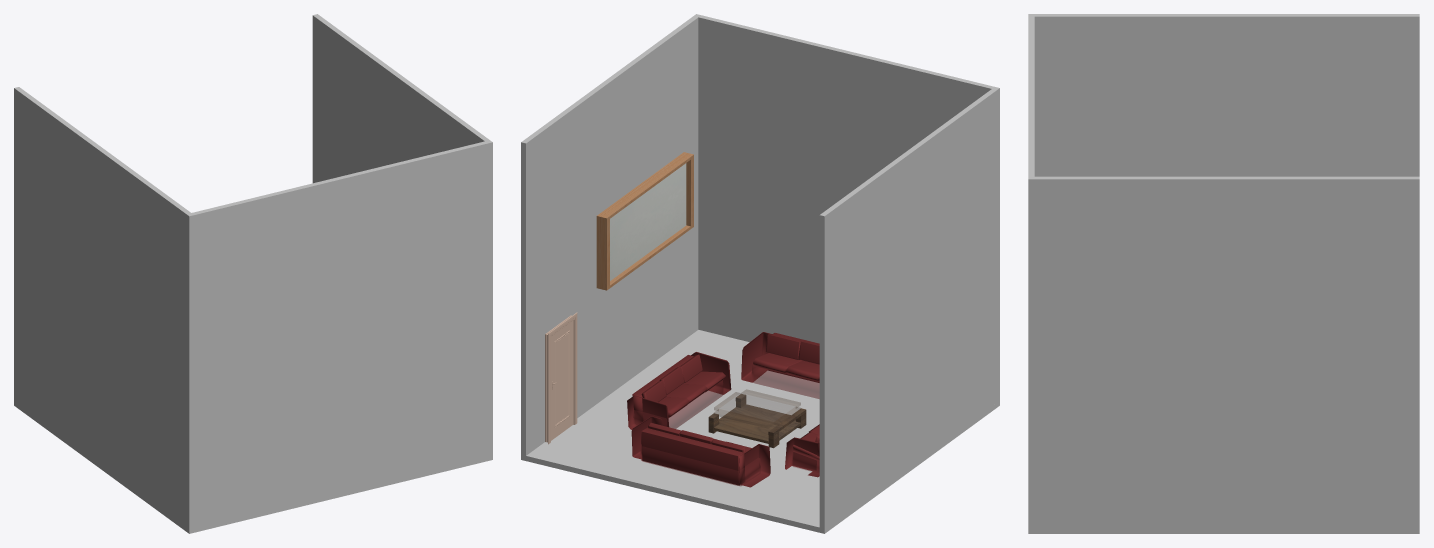
File: UserRoom.fbx
The picture shows the model from 3 angles, left to right: view 1: azimuth 30°, elevation 25°; view 2: azimuth 150°, elevation 25°; view 3: azimuth 270°, elevation 25°; orthographic projection. The views are drawn at different scales.
Visible parts, largest first — view 1: Plane.002, Plane.003, Plane.001, Plane; view 2: Plane.003, Plane.002, Plane.001, Plane, Cube, Cube.014, Cube.010, Cube.002, obj_27, Cube.006, Cube.005, Cube.011; view 3: Plane.001, Plane.003, Plane.002, Plane.
Part boxes in pixels (bbox=[...]): Plane.002: bbox=[186, 141, 492, 533]; Plane.003: bbox=[14, 87, 190, 525]; Plane.001: bbox=[312, 14, 492, 388]; Plane: bbox=[14, 400, 186, 531]; Plane.003: bbox=[819, 88, 999, 533]; Plane.002: bbox=[698, 15, 999, 407]; Plane.001: bbox=[521, 14, 700, 460]; Plane: bbox=[526, 330, 996, 533]; Cube: bbox=[596, 152, 693, 290]; Cube.014: bbox=[631, 416, 770, 487]; Cube.010: bbox=[627, 352, 731, 429]; Cube.002: bbox=[741, 332, 819, 398]; obj_27: bbox=[545, 312, 577, 444]; Cube.006: bbox=[708, 393, 806, 448]; Cube.005: bbox=[714, 389, 800, 428]; Cube.011: bbox=[785, 424, 819, 477]; Plane.001: bbox=[1028, 176, 1419, 533]; Plane.003: bbox=[1034, 14, 1419, 176]; Plane.002: bbox=[1028, 14, 1034, 353]; Plane: bbox=[1124, 528, 1419, 533].
Size of the model in its own units: 24000 by 24000 by 24000.
